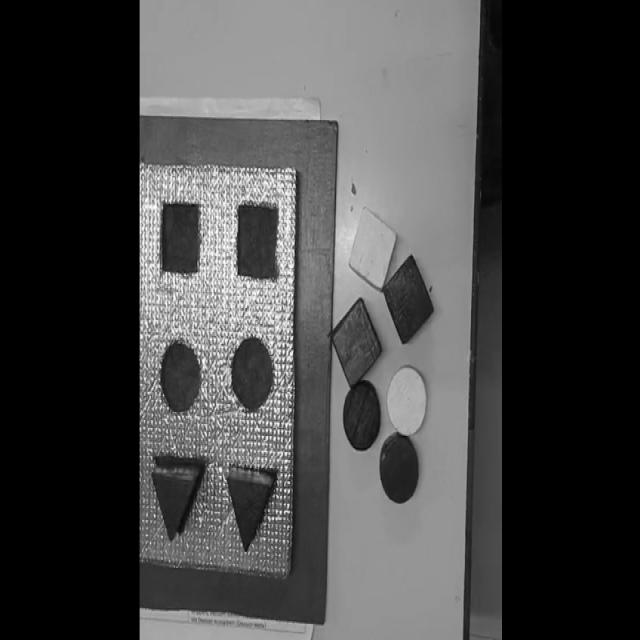bcircle: (386, 364, 427, 437), (342, 381, 380, 452)
bcube: (383, 255, 433, 343)
btriangle: (228, 467, 275, 551)
mtcircle: (160, 338, 203, 414), (232, 336, 274, 408)
mtcube: (236, 203, 278, 279), (162, 201, 200, 274)
rcircle: (378, 431, 419, 504)
rcube: (332, 298, 382, 388)
rtriangle: (151, 461, 204, 543)
wb: (140, 160, 298, 584)
ycube: (349, 208, 396, 290)
